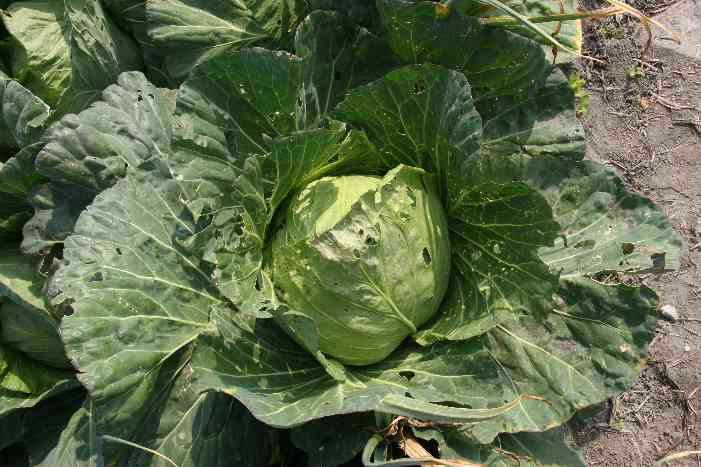cabbage: (261, 159, 456, 384)
